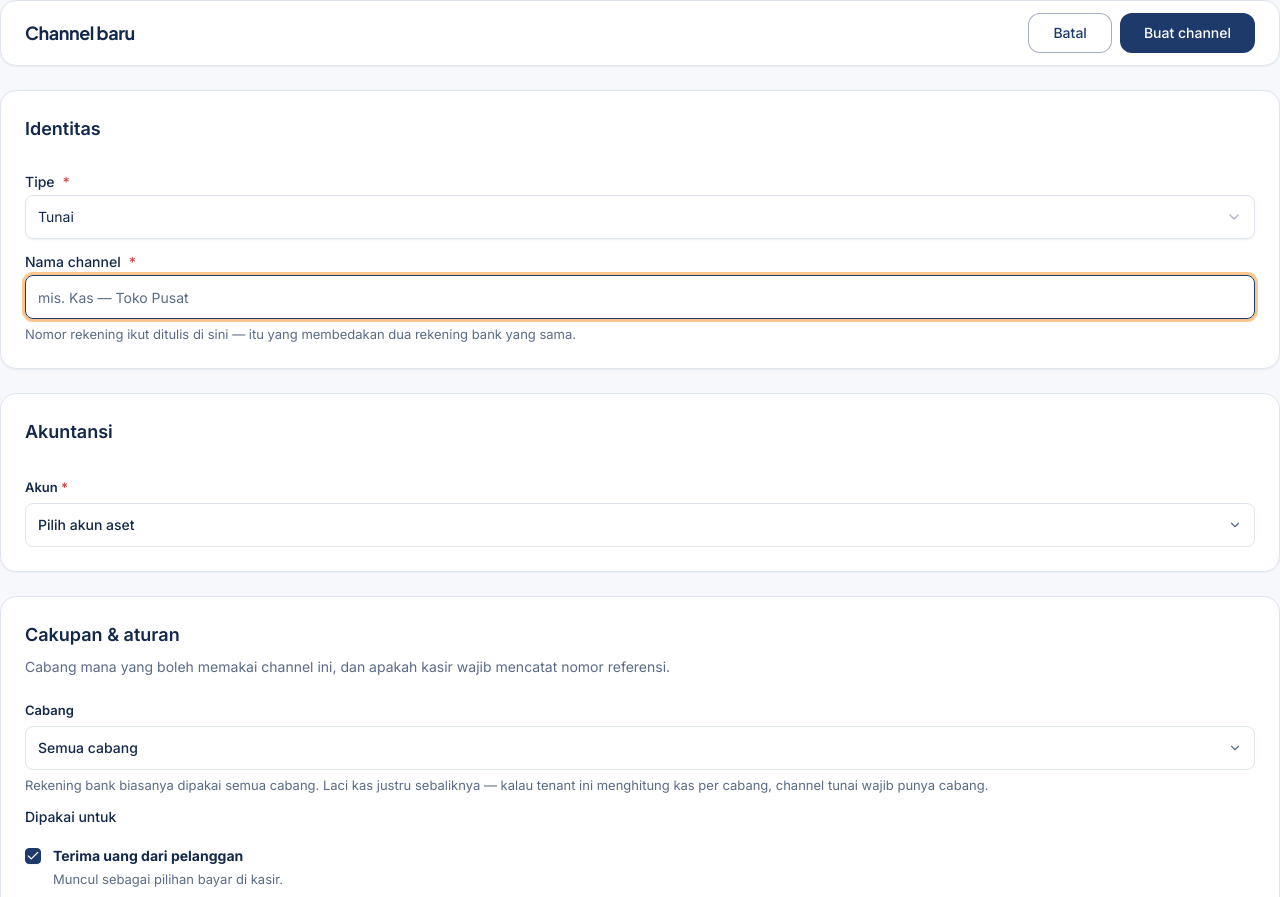
PaymentChannelForm — validation › refuses to submit without a name and an account
What coordinates should you click on to do the following:
click the button "Buat channel"
I would click on:
 (1187, 33)
Its box is [1120,13,1255,53].
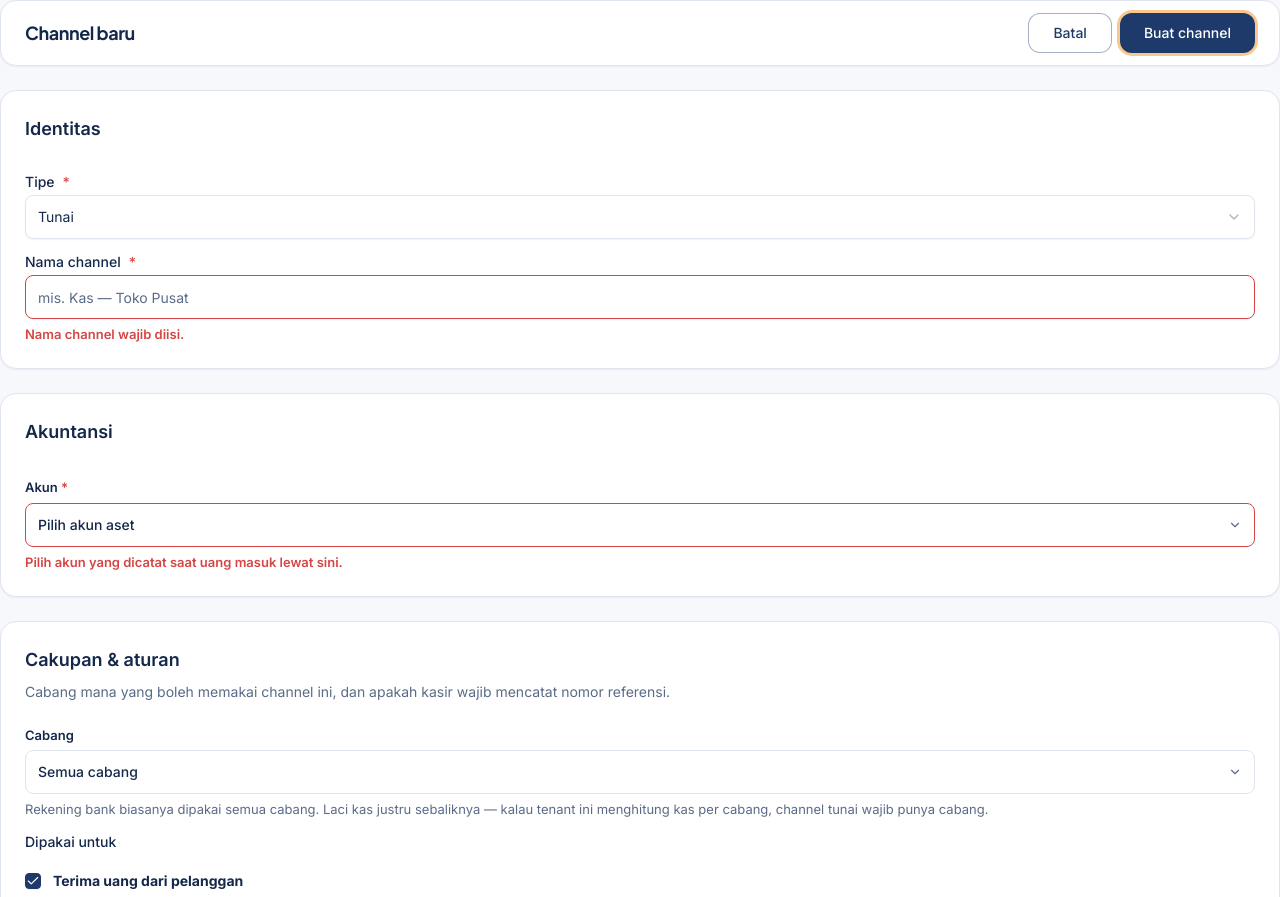
Check: the text "Nama channel wajib diisi." is shown, box [25,326,184,342]
Check: the text "Pilih akun yang dicatat saat uang masuk lewat sini." is shown, box [25,554,343,570]
